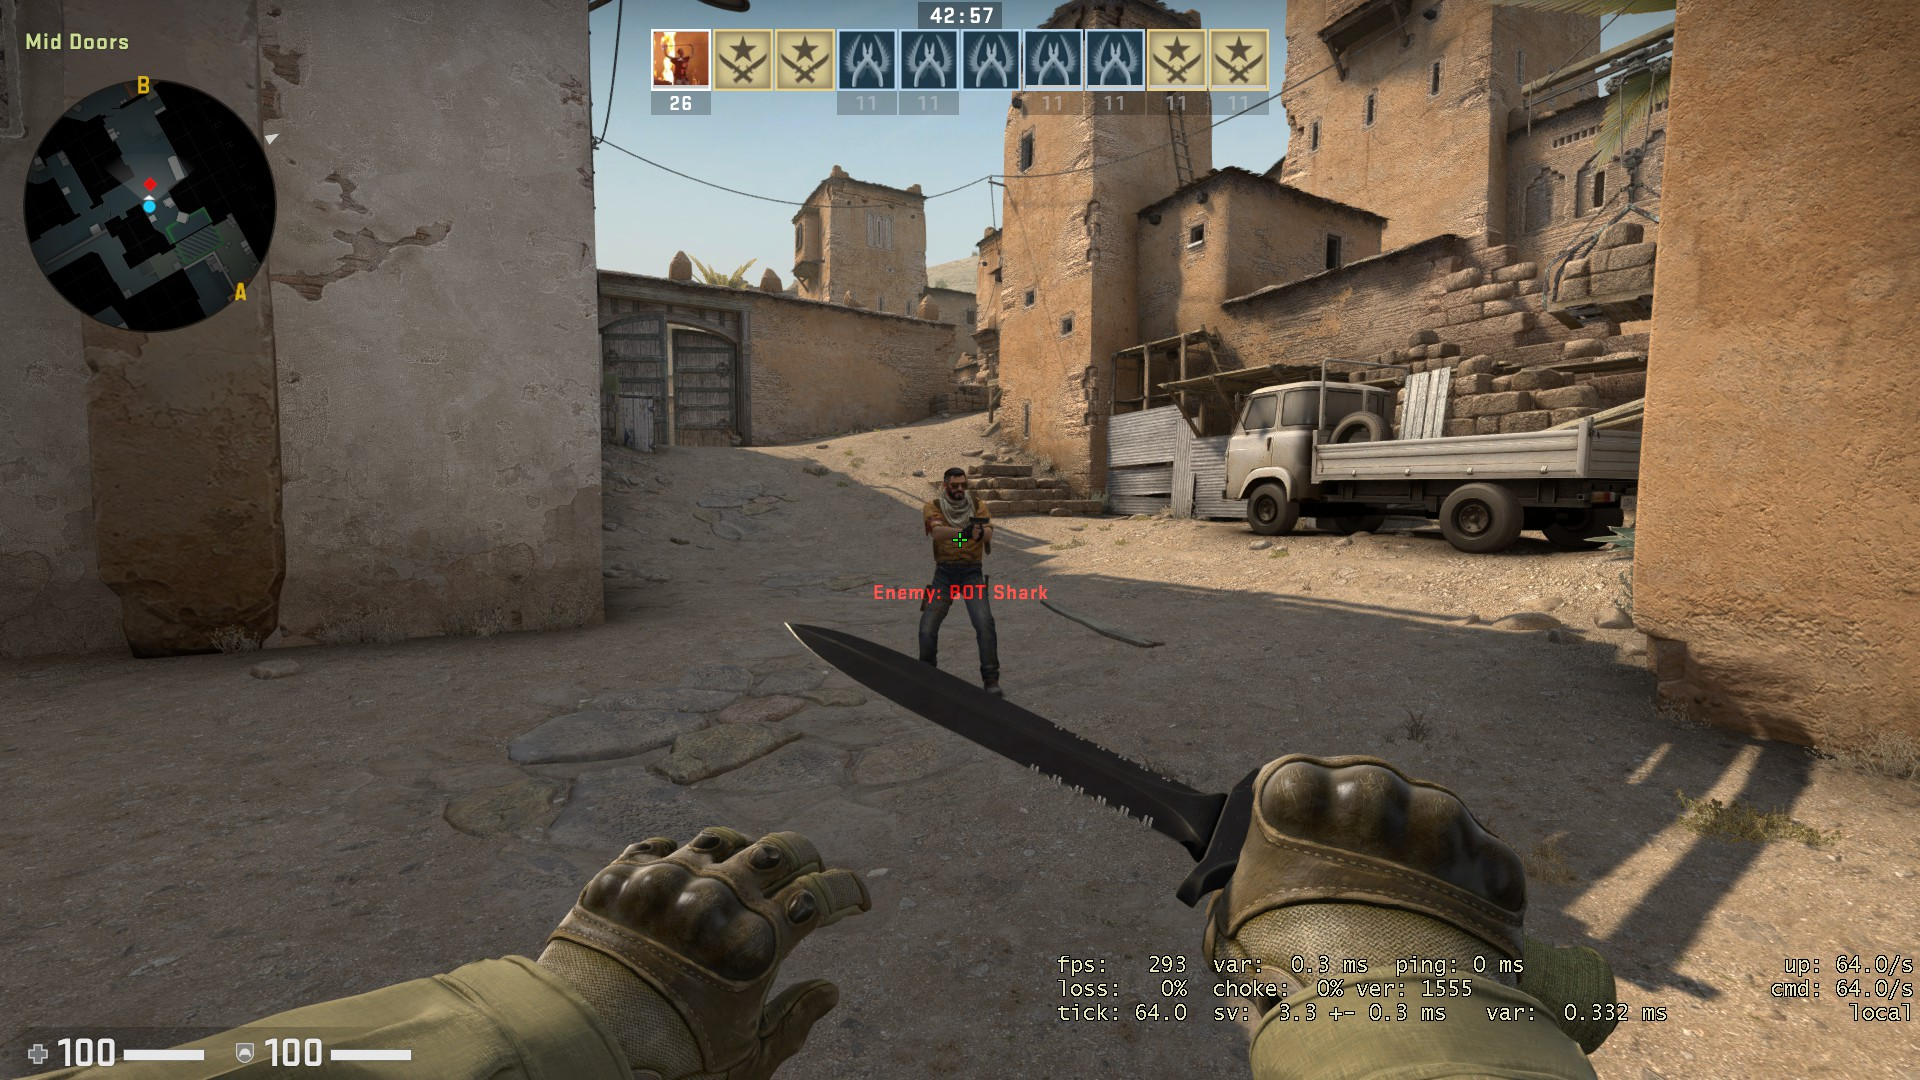player: (912, 463, 1005, 698)
